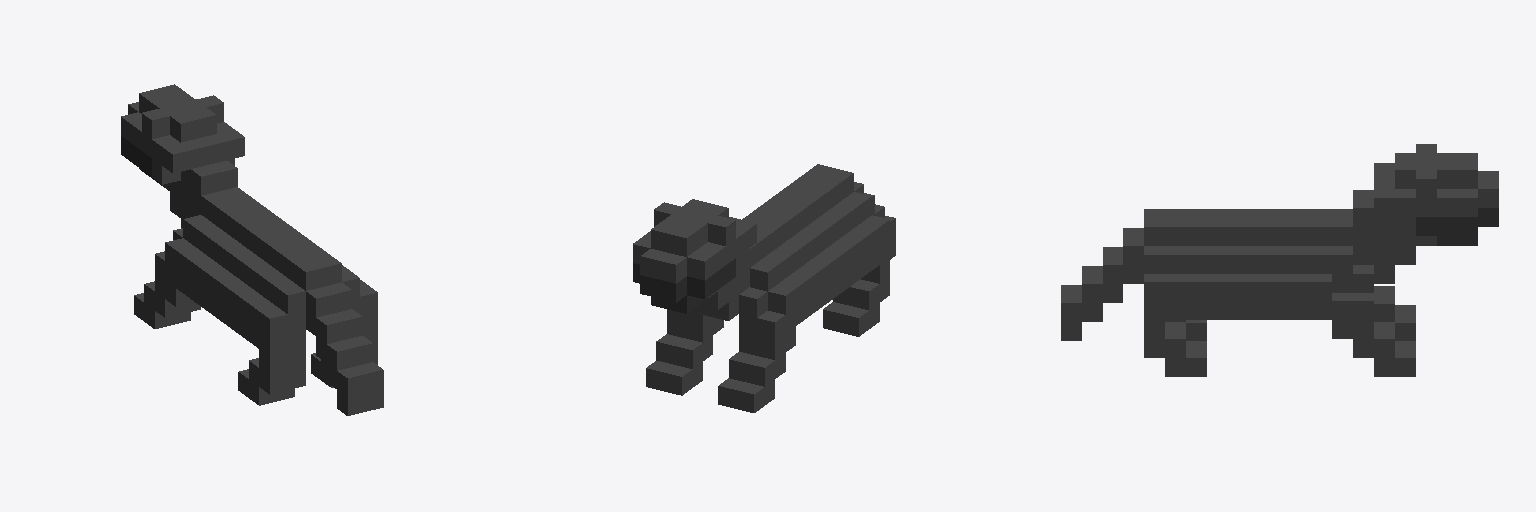
3 views of the same model, side by side, from view 1: azimuth 30°, elevation 25°; view 2: azimuth 150°, elevation 25°; view 3: azimuth 270°, elevation 25° (orthographic).
Visible parts, largest first — view 1: object 1; view 2: object 1; view 3: object 1.
Part boxes in pixels (x1,y1,x2,y2): object 1: (121,84,383,415); object 1: (633,164,895,412); object 1: (1061,144,1498,376).
Bounding box in the file's own units: 0.6 × 1 × 2.1.
1 materials, 1 textured.